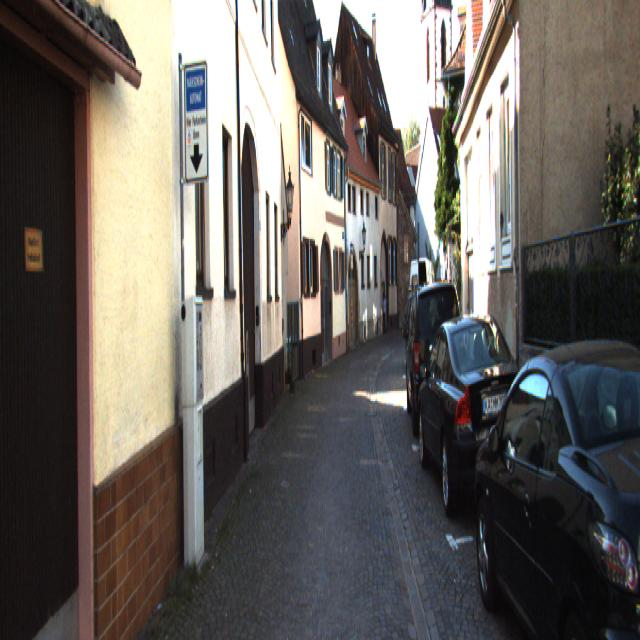Car: (470, 321, 640, 638), (415, 303, 529, 534), (403, 273, 466, 439)
DontCare: (382, 290, 387, 329)
Van: (409, 256, 440, 344)
